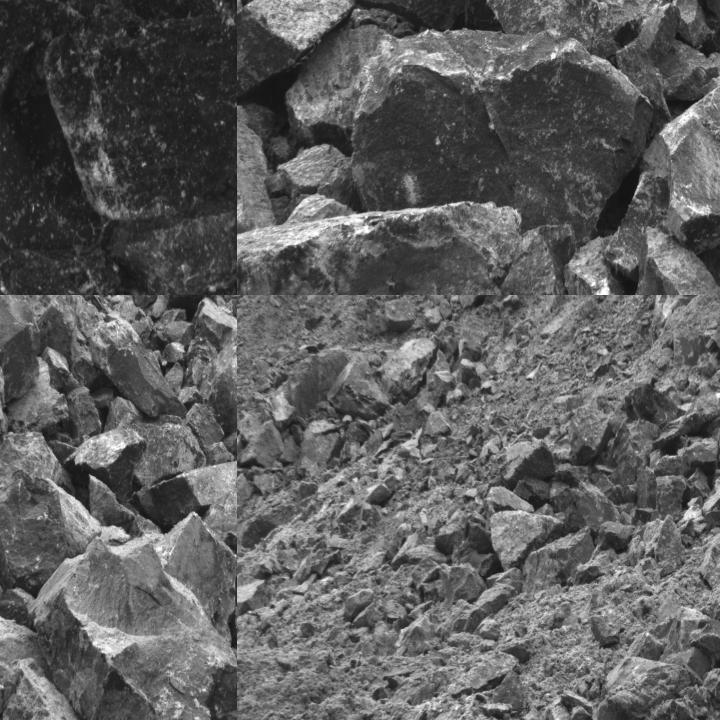stone: (350, 30, 648, 246), (42, 6, 236, 220), (29, 535, 236, 719), (237, 206, 519, 294), (286, 20, 404, 148), (99, 195, 236, 292), (0, 469, 103, 598), (639, 83, 719, 248), (237, 0, 355, 106), (484, 0, 642, 62), (92, 319, 188, 419), (104, 397, 206, 488), (176, 296, 236, 445), (150, 521, 236, 624), (602, 166, 670, 282), (0, 0, 69, 114), (133, 459, 236, 530), (0, 295, 41, 472), (595, 658, 701, 719), (63, 428, 147, 503), (0, 241, 117, 294), (347, 0, 508, 37), (634, 228, 719, 294), (521, 527, 604, 594), (0, 660, 91, 719), (502, 222, 573, 294), (201, 488, 236, 627), (0, 432, 76, 496), (7, 357, 68, 434), (237, 117, 277, 233), (490, 510, 564, 571), (564, 235, 640, 294), (662, 607, 719, 684), (328, 352, 393, 415), (376, 337, 436, 400), (184, 402, 234, 465), (497, 434, 556, 487), (640, 2, 682, 62), (88, 474, 136, 526), (237, 419, 283, 470), (568, 409, 610, 462), (441, 563, 485, 609), (66, 386, 102, 440), (41, 347, 81, 392), (656, 514, 686, 574), (651, 474, 686, 522), (484, 486, 536, 518), (678, 437, 720, 474), (44, 432, 90, 465), (620, 700, 694, 719), (596, 520, 633, 554), (268, 389, 295, 431), (410, 556, 441, 590), (344, 588, 374, 622), (590, 615, 620, 645), (573, 561, 607, 585), (423, 410, 450, 436), (168, 295, 218, 309), (164, 362, 184, 396), (280, 434, 301, 465), (222, 429, 236, 475), (75, 295, 107, 314), (100, 526, 130, 545), (90, 386, 114, 408), (518, 705, 555, 719), (564, 706, 603, 719), (480, 619, 500, 641), (178, 386, 202, 403), (710, 315, 719, 358), (300, 620, 320, 637)
